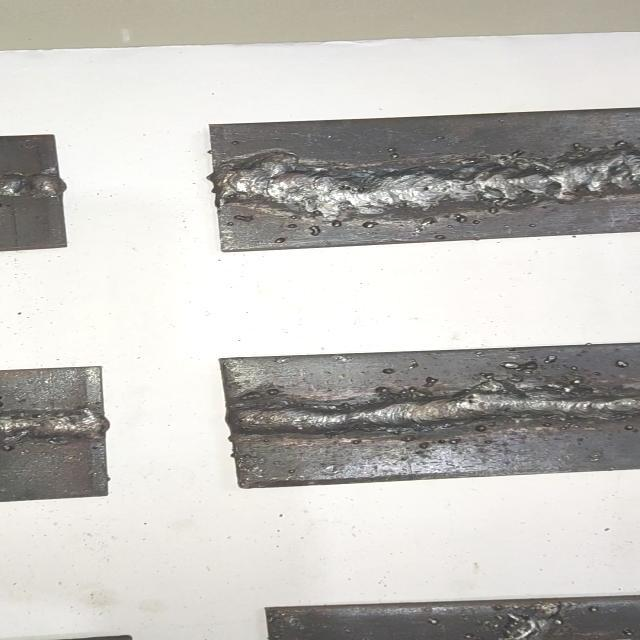Defect: (218, 141, 640, 225), (468, 354, 578, 428), (0, 412, 107, 439), (343, 380, 428, 412), (478, 612, 560, 640), (0, 172, 64, 201)
Welding Line: (216, 152, 638, 216), (218, 396, 640, 432)
Workpiece: (200, 104, 640, 255), (215, 337, 640, 491), (0, 362, 119, 505), (0, 129, 73, 254)
